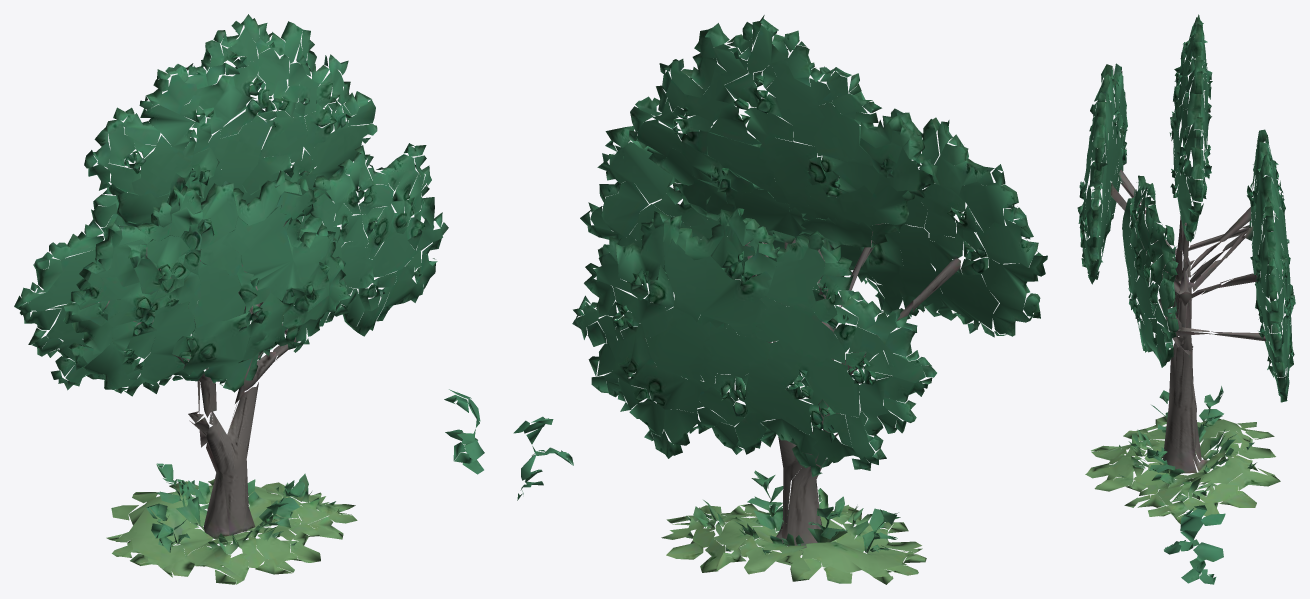
File: green02.glb
3 renders of one model, left to right at view 1: azimuth 30°, elevation 25°; view 2: azimuth 150°, elevation 25°; view 3: azimuth 270°, elevation 25°, orthographic. The views are drawn at different scales.
Visible parts, largest first — view 1: tripo_node_9bc2aa80-cb70-40f3-96fe-d32ba7f46b23; view 2: tripo_node_9bc2aa80-cb70-40f3-96fe-d32ba7f46b23; view 3: tripo_node_9bc2aa80-cb70-40f3-96fe-d32ba7f46b23.
Part boxes in pixels (<box>): tripo_node_9bc2aa80-cb70-40f3-96fe-d32ba7f46b23: <box>14,14,484,584</box>; tripo_node_9bc2aa80-cb70-40f3-96fe-d32ba7f46b23: <box>513,15,1047,584</box>; tripo_node_9bc2aa80-cb70-40f3-96fe-d32ba7f46b23: <box>1077,14,1295,584</box>.
Size of the model in its own units: 0.939 by 1 by 0.4326.
1 material, 1 textured.
